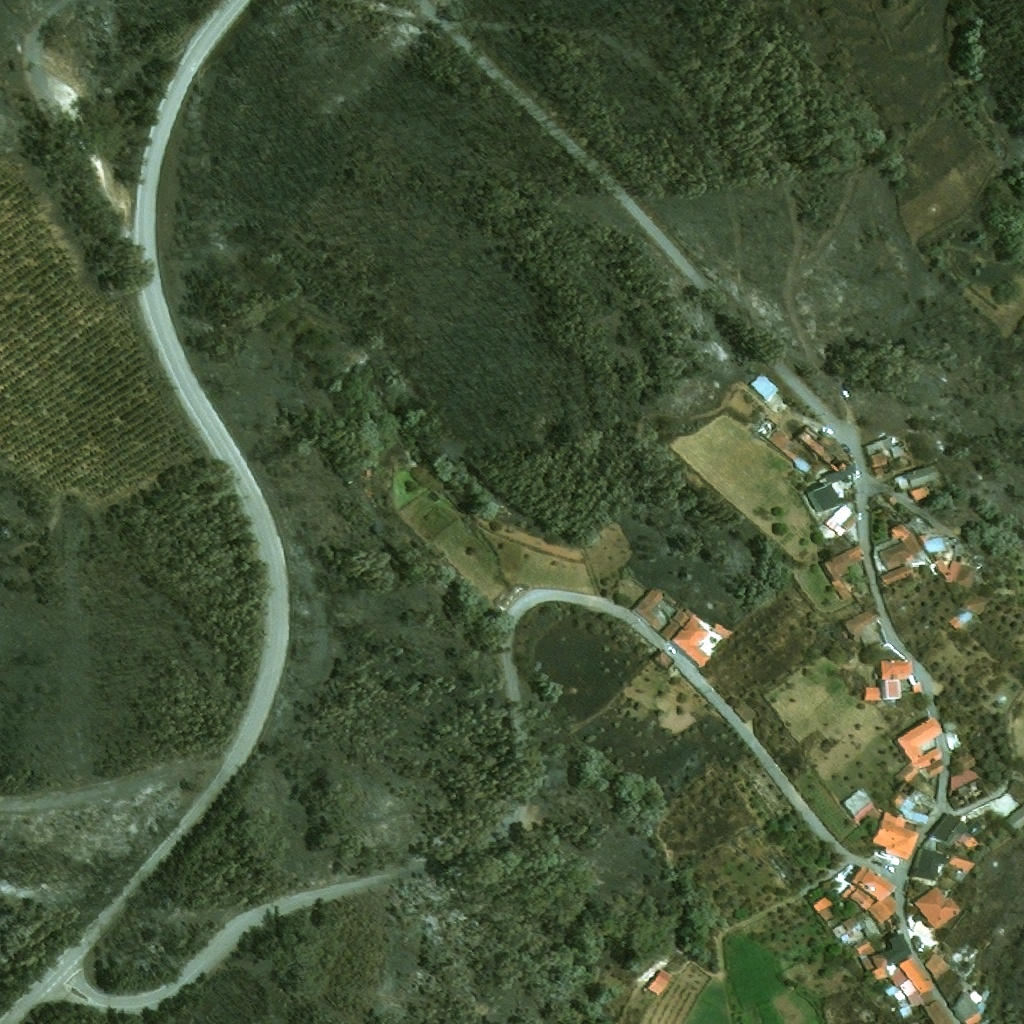0 no-damage: (824, 544, 870, 604), (898, 715, 942, 768), (888, 782, 941, 825), (871, 812, 919, 859), (879, 520, 921, 569), (673, 617, 712, 668), (914, 886, 961, 928), (947, 592, 988, 633), (851, 865, 896, 900), (632, 588, 665, 631), (818, 503, 857, 538), (900, 958, 934, 996), (882, 658, 913, 699), (910, 847, 946, 882), (842, 787, 875, 822), (892, 465, 939, 489), (936, 559, 975, 587), (808, 481, 841, 513), (925, 812, 960, 841), (951, 754, 977, 791), (748, 372, 781, 401), (847, 607, 878, 637), (951, 994, 982, 1023), (884, 933, 911, 963), (868, 895, 898, 922), (966, 988, 996, 1014), (923, 953, 950, 980), (900, 979, 924, 1008), (925, 1000, 955, 1023), (645, 970, 670, 996), (881, 563, 915, 582), (822, 465, 856, 484), (894, 763, 919, 785), (842, 916, 863, 942), (859, 913, 881, 937), (850, 888, 874, 909), (1005, 803, 1023, 831), (659, 619, 680, 640), (950, 855, 974, 873), (956, 832, 980, 849), (925, 536, 949, 550), (855, 938, 874, 955), (927, 759, 946, 776), (812, 896, 832, 912), (713, 623, 733, 638), (897, 1001, 914, 1018), (910, 486, 930, 500), (871, 951, 887, 967), (673, 610, 689, 626), (891, 968, 906, 985), (921, 990, 937, 1004), (863, 687, 880, 700), (873, 966, 888, 980), (830, 924, 846, 937), (819, 907, 833, 920), (942, 720, 956, 732), (861, 957, 873, 970), (839, 886, 851, 899), (885, 985, 899, 996), (969, 826, 983, 837), (894, 990, 906, 1002), (887, 962, 897, 974), (826, 918, 837, 928), (930, 945, 939, 953), (956, 873, 964, 882), (914, 682, 921, 692), (686, 609, 694, 617), (909, 674, 915, 684)
1 minor-damage: (655, 650, 677, 670)
2 major-damage: (756, 417, 813, 473), (799, 424, 848, 470), (863, 434, 903, 467)
3 destroyed: (952, 778, 990, 810), (371, 379, 394, 401), (734, 700, 755, 722)
4 un-classified: (444, 490, 456, 501)
